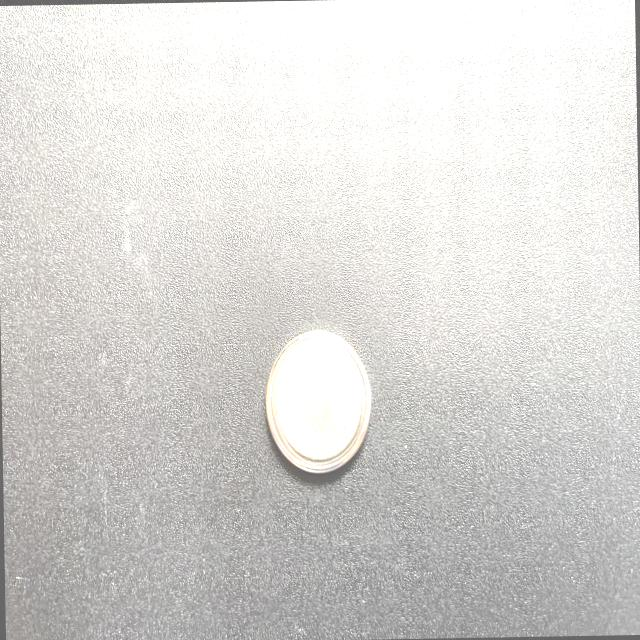COIN: (262, 322, 373, 479)
